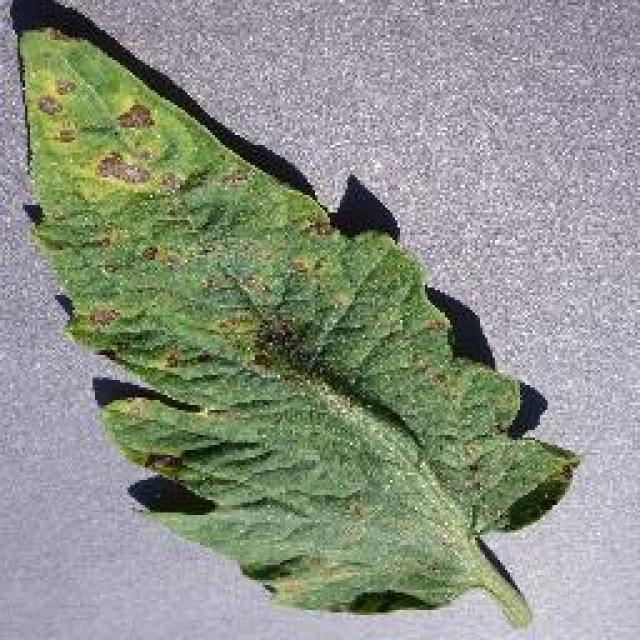Tomato___Septoria_leaf_spot: (18, 28, 575, 622)
